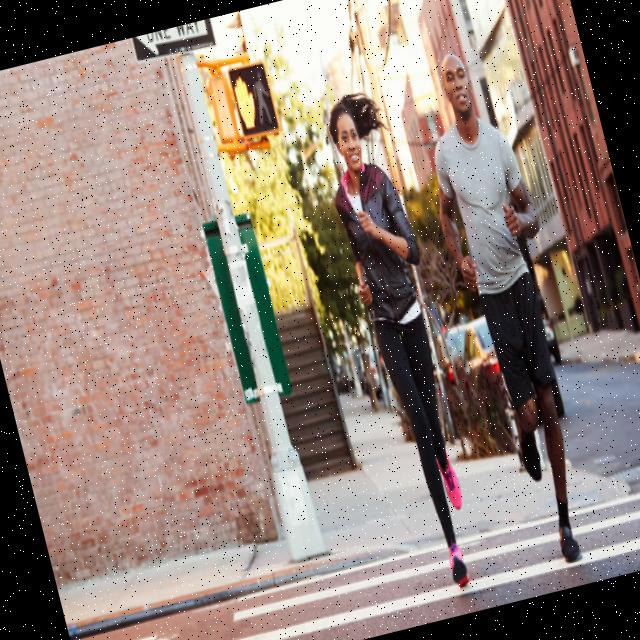Person: (402, 42, 620, 572), (310, 84, 500, 594)
